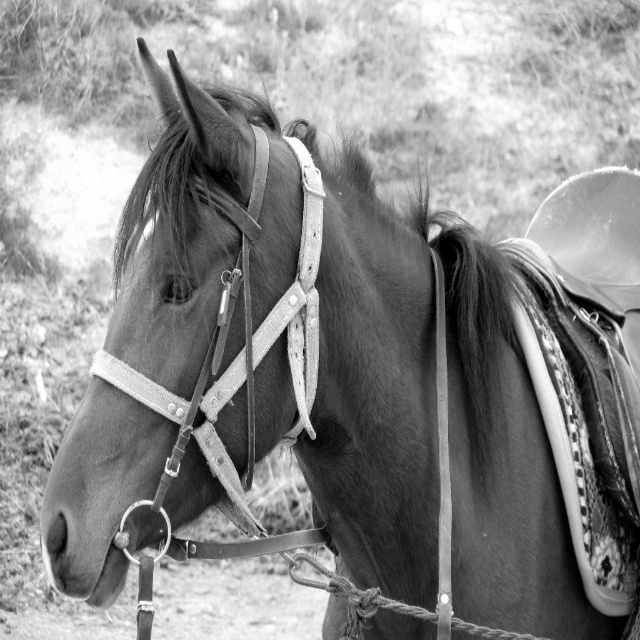Horse: (30, 37, 640, 640)
